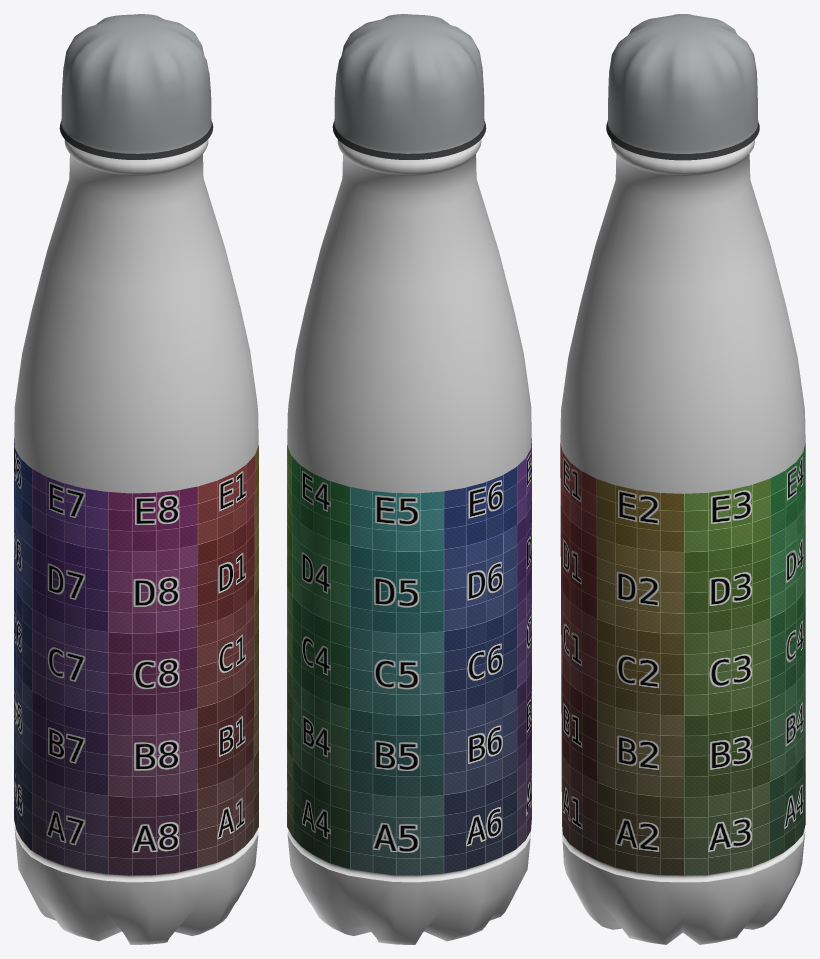
File: GOBO.glb
The picture shows the model from 3 angles, left to right: view 1: azimuth 30°, elevation 25°; view 2: azimuth 150°, elevation 25°; view 3: azimuth 270°, elevation 25°; orthographic projection.
Parts seen in each view (by area): view 1: bottle, cap; view 2: bottle, cap; view 3: bottle, cap.
Part boxes in pixels (bbox=[...]): bottle: bbox=[14, 139, 258, 944]; cap: bbox=[59, 14, 213, 159]; bottle: bbox=[287, 139, 531, 944]; cap: bbox=[332, 14, 486, 159]; bottle: bbox=[560, 139, 805, 944]; cap: bbox=[606, 14, 759, 160].
Bounding box in the file's own units: 1.48 × 5.89 × 1.48.
4 materials, 1 textured.
